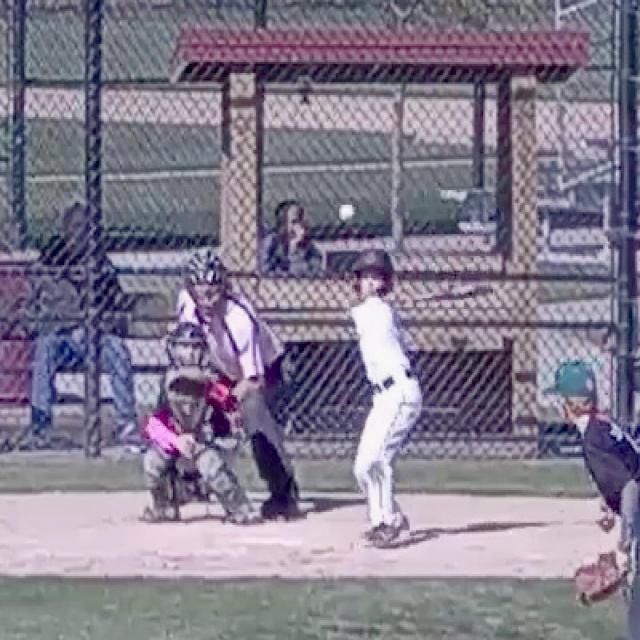baseball: (339, 206, 355, 220)
